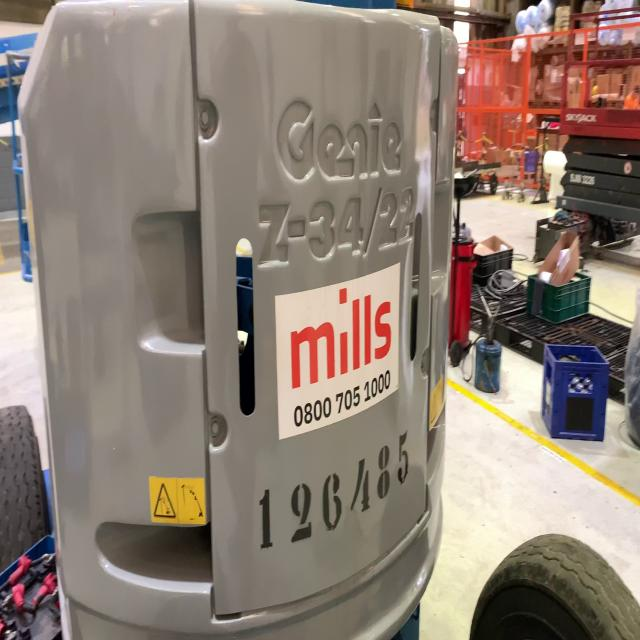Adesivos: (272, 256, 402, 449)
